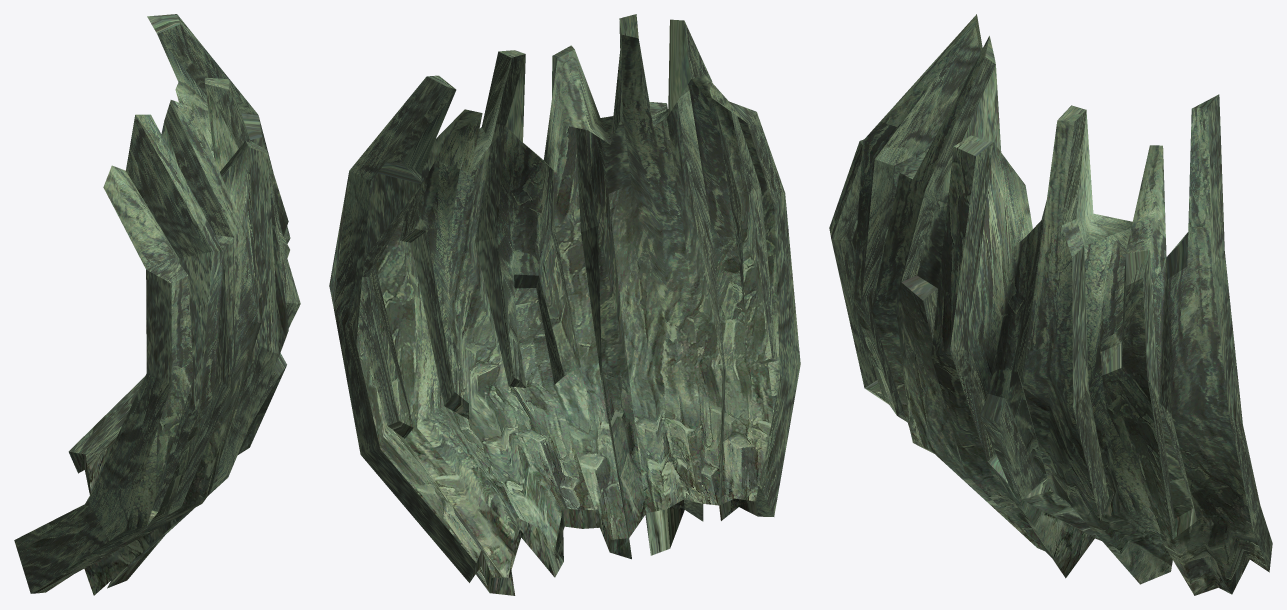
File: 10104_CStone04.FBX
3 views of the same model, side by side, from view 1: azimuth 30°, elevation 25°; view 2: azimuth 150°, elevation 25°; view 3: azimuth 270°, elevation 25° (orthographic). The views are drawn at different scales.
Parts seen in each view (by area): view 1: Plane018; view 2: Plane018; view 3: Plane018.
Part boxes in pixels (left/top/right/bottom): Plane018: left=14, top=14, right=300, bottom=595; Plane018: left=329, top=14, right=800, bottom=595; Plane018: left=829, top=14, right=1272, bottom=595.
Size of the model in its own units: 435 by 610 by 445.
